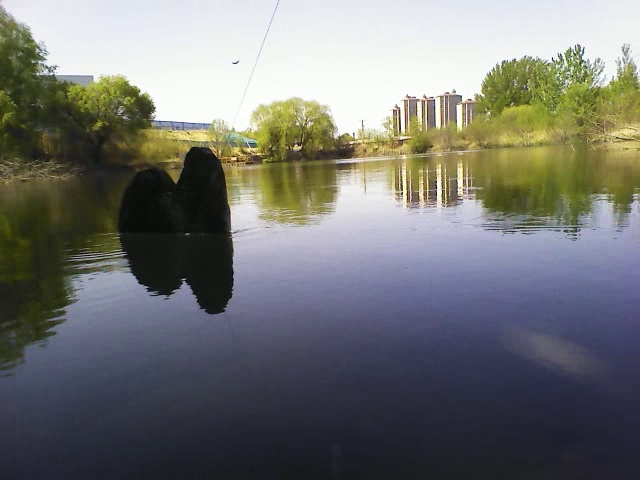rock: (116, 143, 237, 233)
